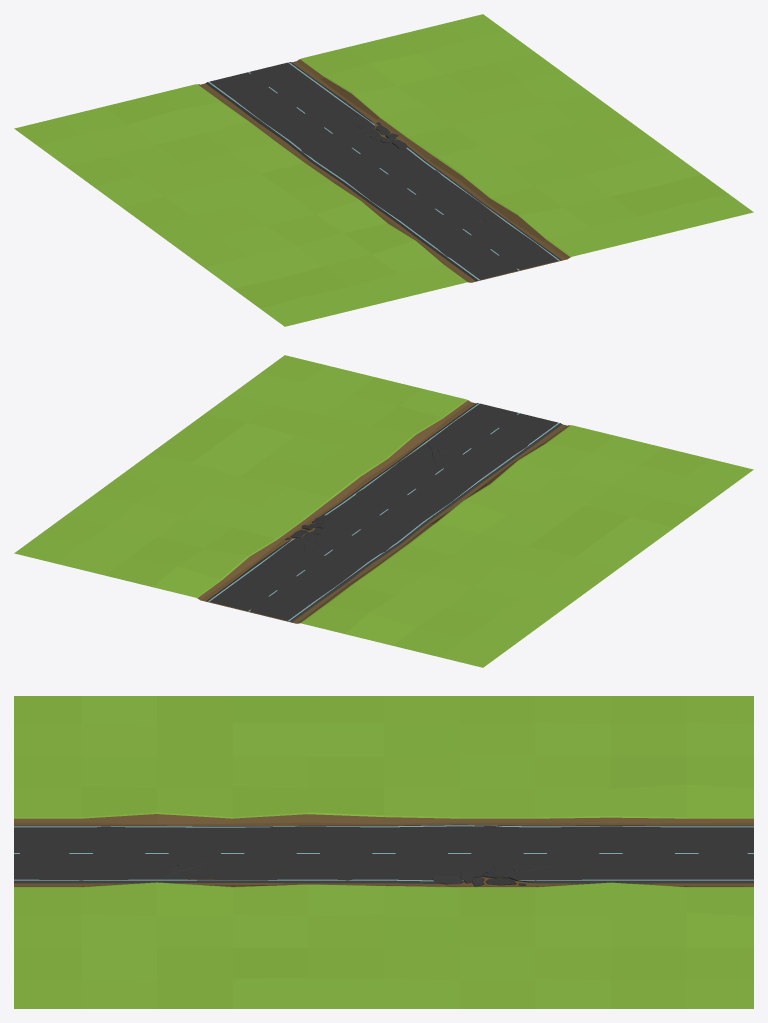
File: model_road_grass_straight_02.fbx
The picture shows the model from 3 angles, top to bottom: view 1: azimuth 30°, elevation 25°; view 2: azimuth 150°, elevation 25°; view 3: azimuth 270°, elevation 25°; orthographic projection. The views are drawn at different scales.
Parts seen in each view (by area): view 1: model_road_grass_straight_02; view 2: model_road_grass_straight_02; view 3: model_road_grass_straight_02.
Boxes of the visible parts, x1=… form: model_road_grass_straight_02: x1=14, y1=14, x2=753, y2=326; model_road_grass_straight_02: x1=14, y1=355, x2=753, y2=667; model_road_grass_straight_02: x1=14, y1=696, x2=753, y2=1008.
Bounding box in the file's own units: 6000 × 68.27 × 6000.
1 material, 1 textured.
